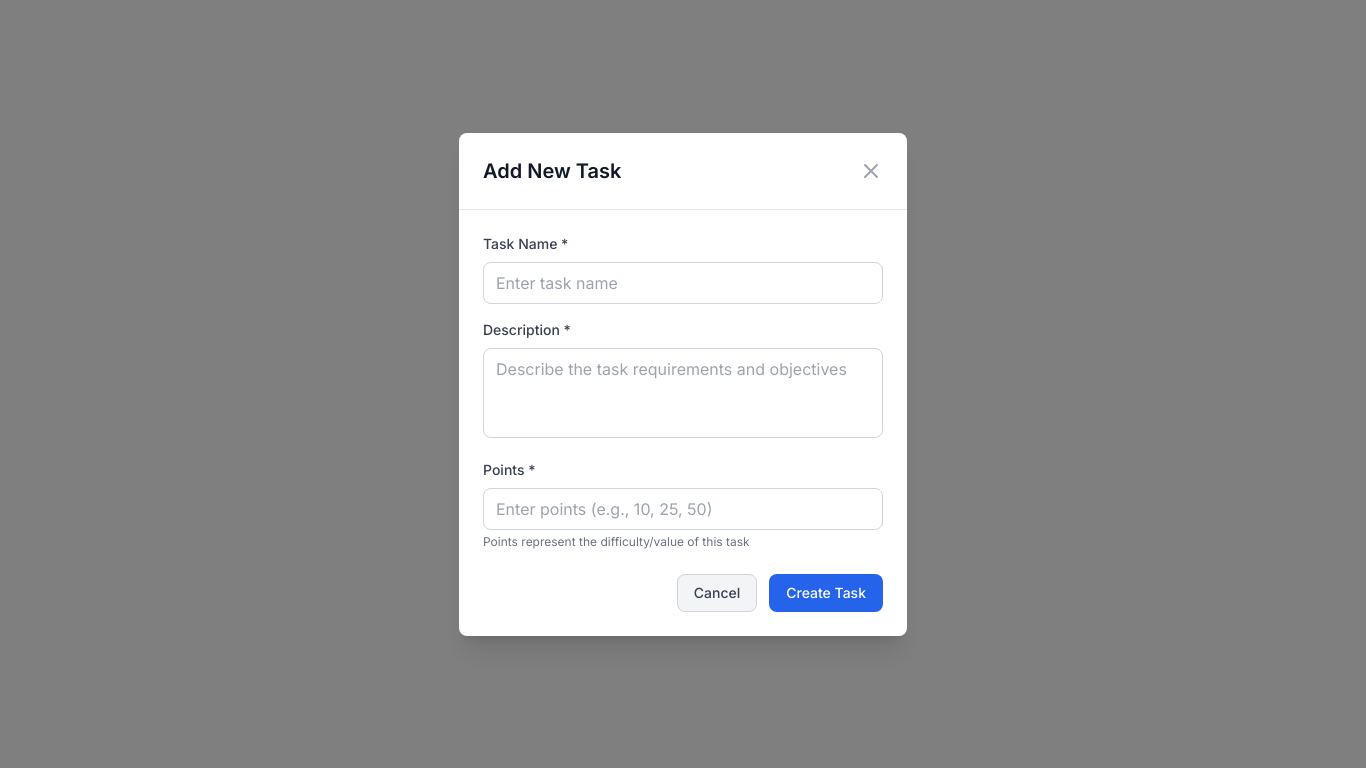
AddTaskModal › Form Validation › displays validation errors for invalid form
Click the button "Create Task" at x=826, y=592, box x1=769 y1=574 x2=883 y2=612
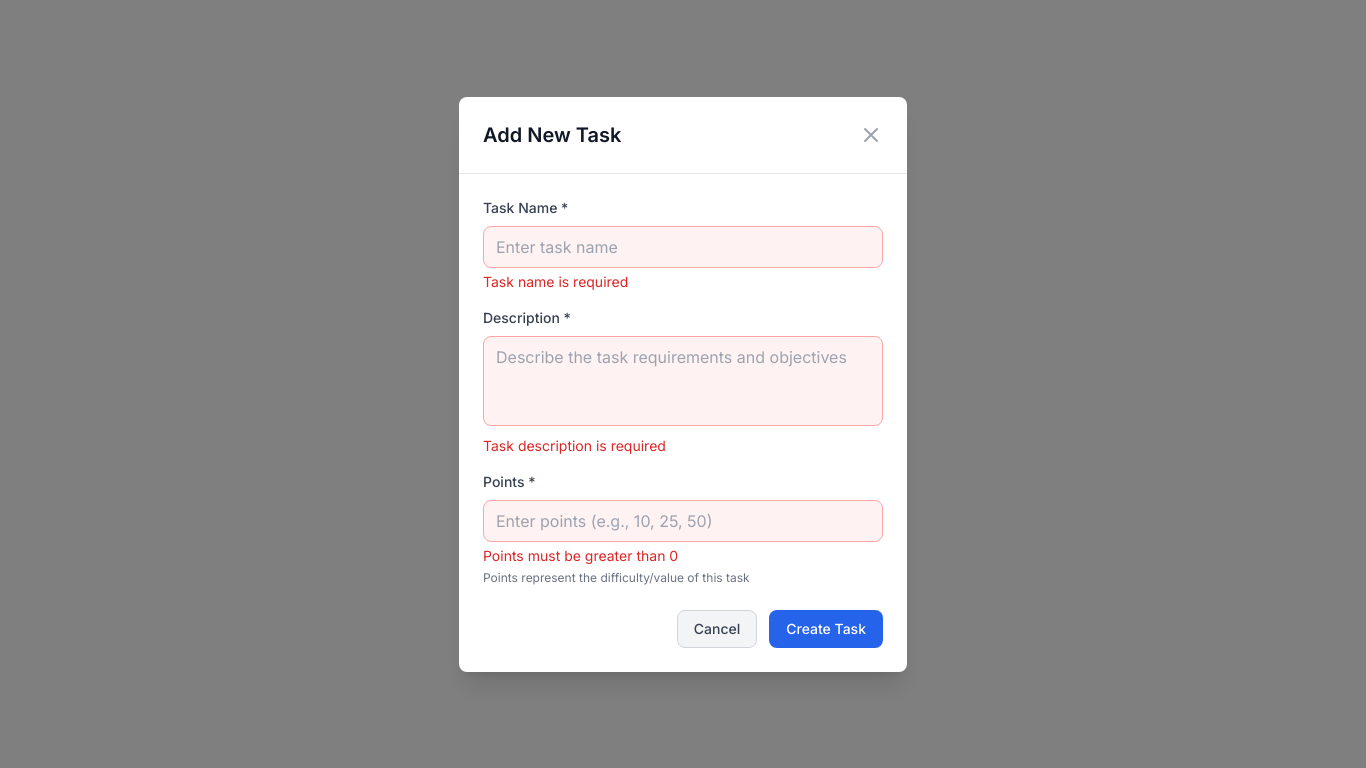
Expected: the text "Task name is required" is shown, x1=483 y1=272 x2=628 y2=290
Expected: the text "Task description is required" is shown, x1=483 y1=436 x2=666 y2=454
Expected: the text "Points must be greater than 0" is shown, x1=483 y1=546 x2=678 y2=564
